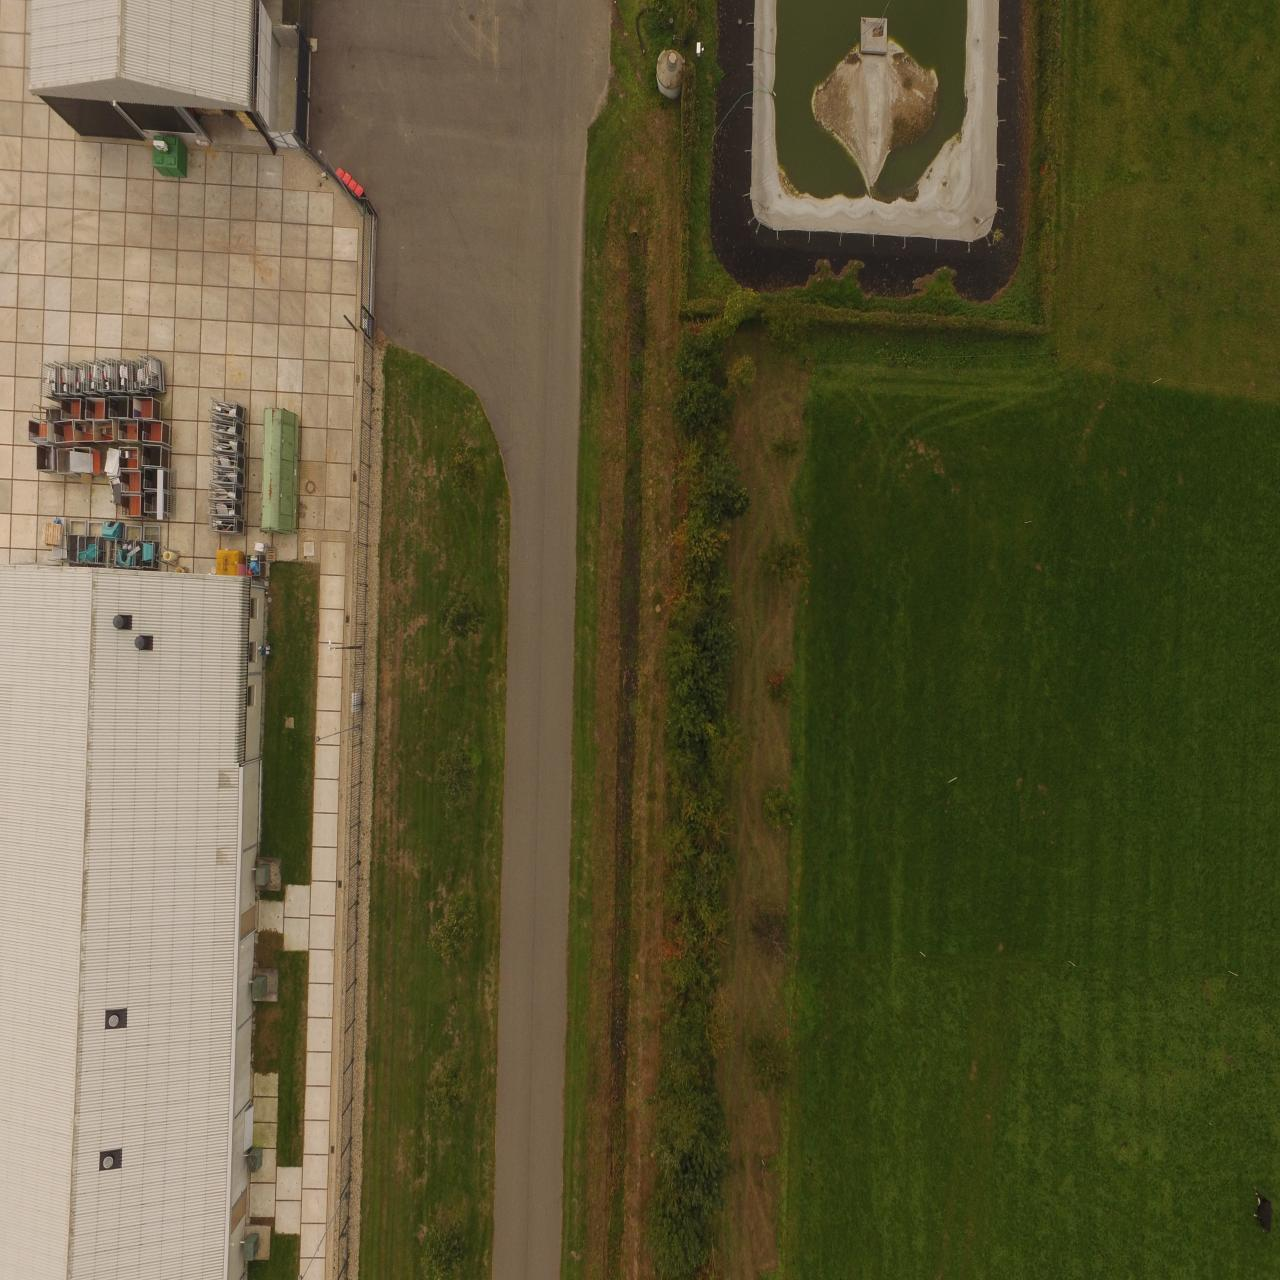cow: (1254, 1190, 1273, 1235)
